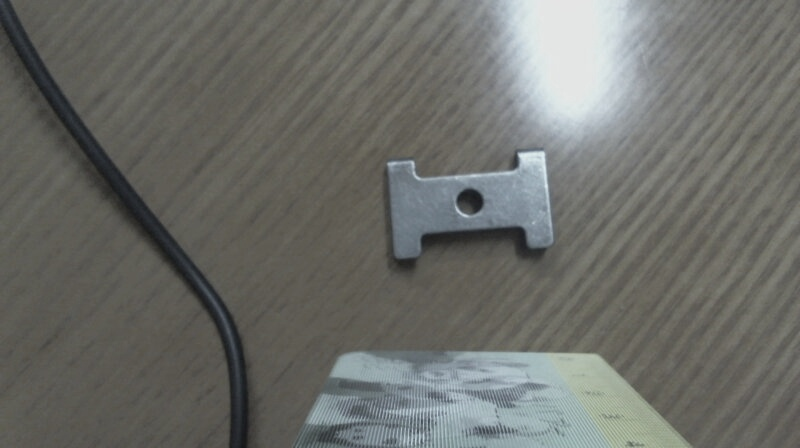O002: (380, 148, 558, 261)
